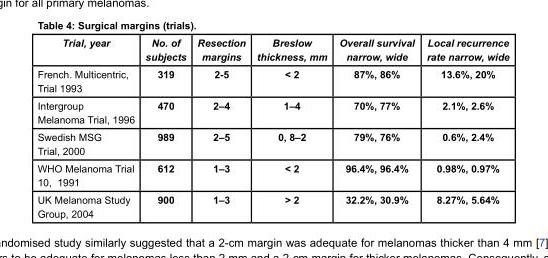table: (36, 36, 508, 218)
table column: (36, 36, 139, 218), (419, 36, 508, 218), (332, 36, 419, 218), (250, 36, 332, 218), (191, 36, 250, 218), (139, 36, 191, 218)
table column header: (36, 36, 508, 64)
table row: (36, 64, 508, 96), (36, 127, 508, 159), (36, 96, 508, 127), (36, 159, 508, 190), (36, 36, 508, 64), (36, 190, 508, 218)
